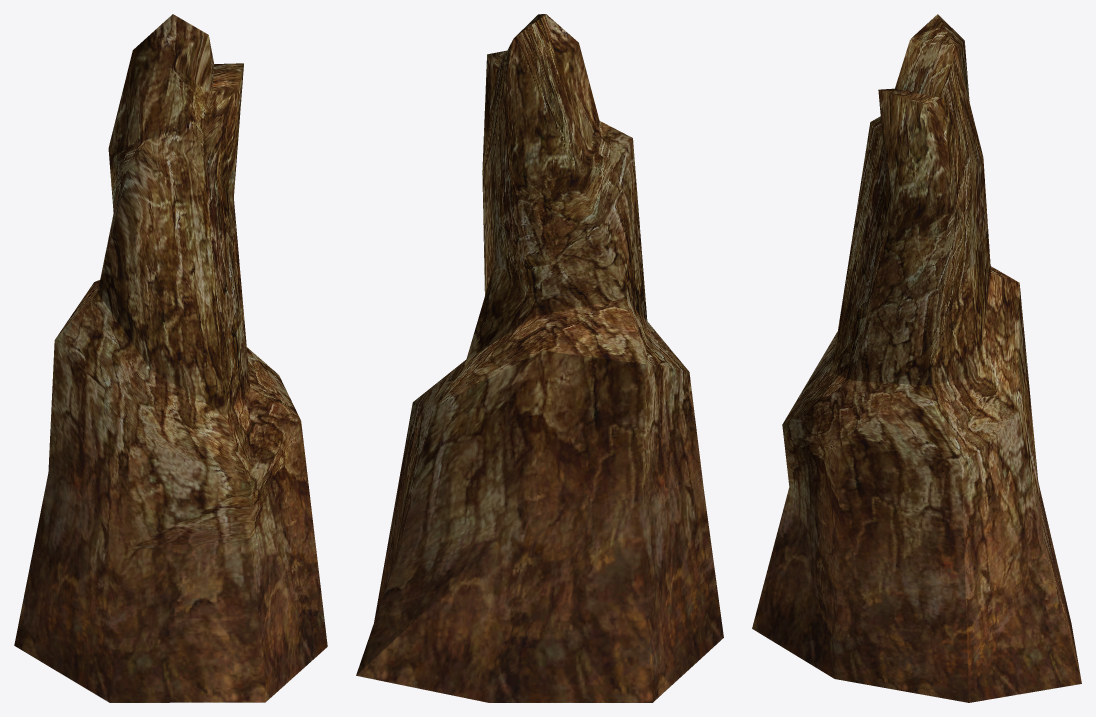
The model's file is hr_rock1.glb.
3 views of the same model, side by side, from view 1: azimuth 30°, elevation 25°; view 2: azimuth 150°, elevation 25°; view 3: azimuth 270°, elevation 25° (orthographic). The views are drawn at different scales.
Visible parts, largest first — view 1: hr_rock1; view 2: hr_rock1; view 3: hr_rock1.
Part boxes in pixels (left/top/right/bottom): hr_rock1: left=14, top=14, right=327, bottom=702; hr_rock1: left=356, top=14, right=723, bottom=702; hr_rock1: left=752, top=14, right=1081, bottom=702.
Bounding box in the file's own units: 6.87 × 14.34 × 6.97.
2 materials, 2 textured.
